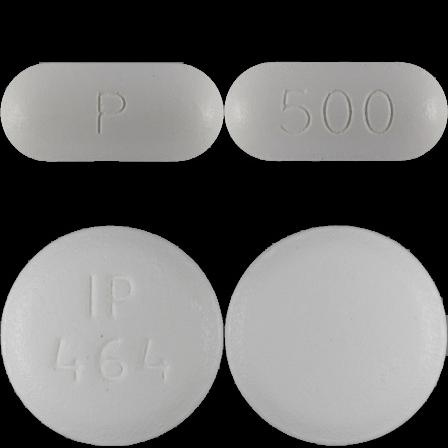45865-471: (0, 0, 224, 224)
